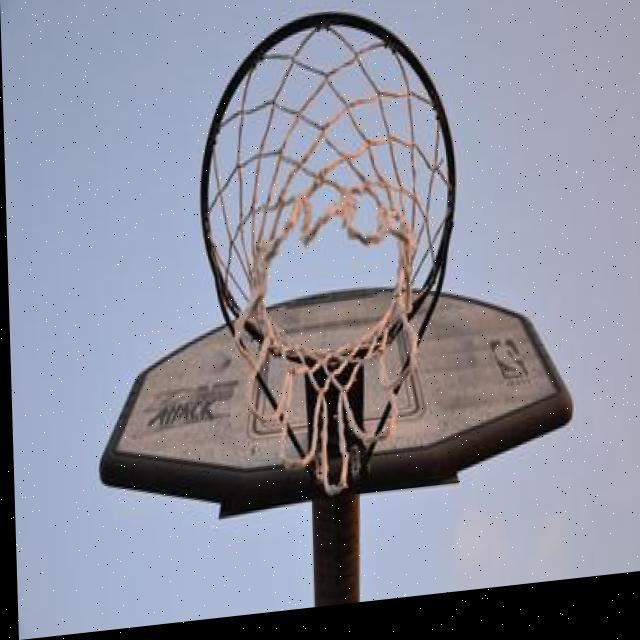hoop: (195, 0, 465, 506)
